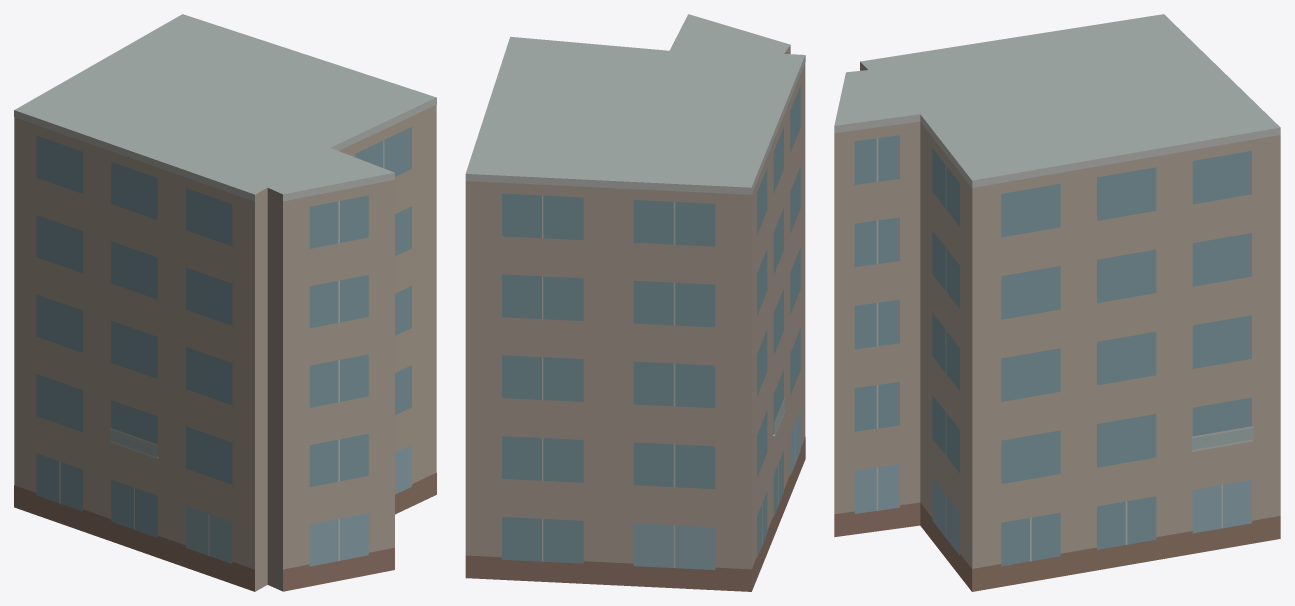
Rendered from survey-upis-32590217.glb.
The picture shows the model from 3 angles, left to right: view 1: azimuth 30°, elevation 25°; view 2: azimuth 150°, elevation 25°; view 3: azimuth 270°, elevation 25°; orthographic projection. The views are drawn at different scales.
Parts seen in each view (by area): view 1: survey-upis-32590217.tmp; view 2: survey-upis-32590217.tmp; view 3: survey-upis-32590217.tmp.
Part boxes in pixels (left/top/right/bottom): survey-upis-32590217.tmp: left=14, top=14, right=436, bottom=591; survey-upis-32590217.tmp: left=465, top=14, right=805, bottom=591; survey-upis-32590217.tmp: left=834, top=14, right=1280, bottom=591.
Size of the model in its own units: 11.96 by 13.75 by 13.54.
